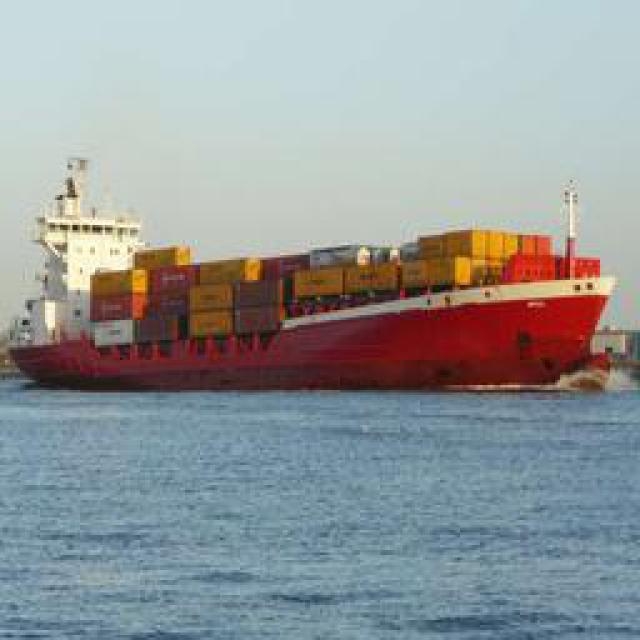Ship: (10, 181, 630, 399)
